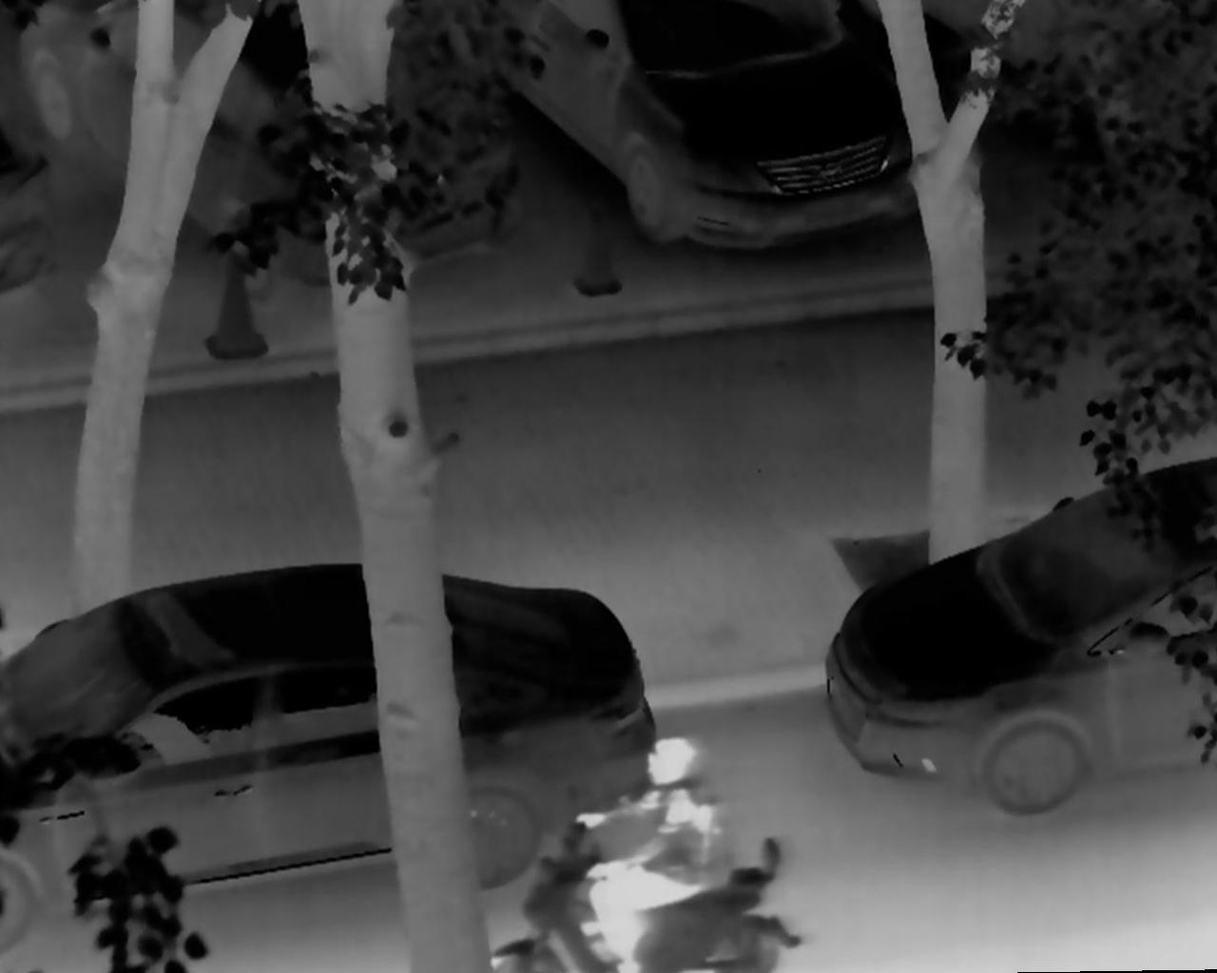person: (565, 731, 720, 973)
